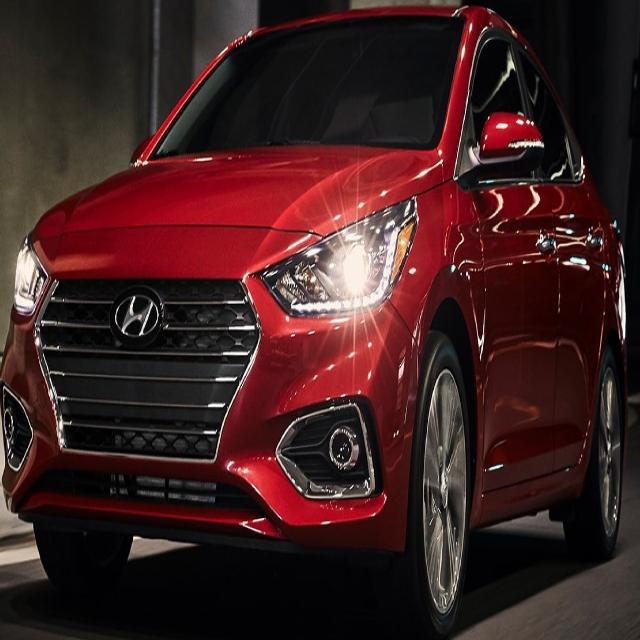maroon: (3, 11, 624, 568)
